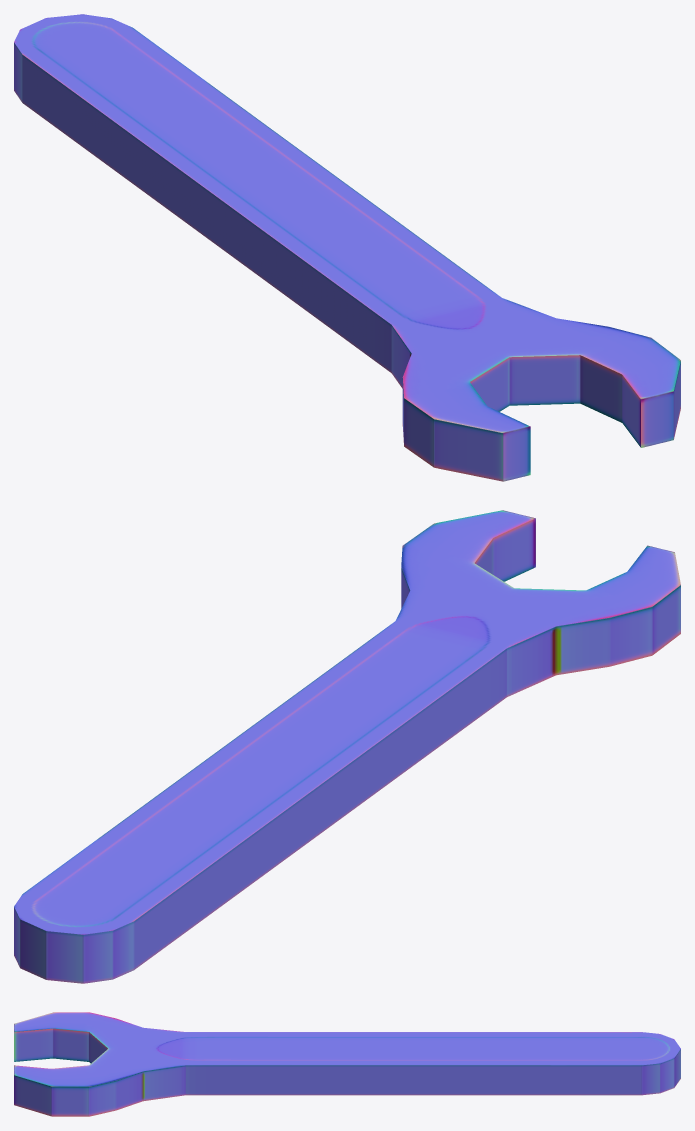
File: wrench.fbx
The picture shows the model from 3 angles, top to bottom: view 1: azimuth 30°, elevation 25°; view 2: azimuth 150°, elevation 25°; view 3: azimuth 270°, elevation 25°; orthographic projection. The views are drawn at different scales.
Parts seen in each view (by area): view 1: Cube; view 2: Cube; view 3: Cube.
Boxes of the visible parts, x1,y1,x2,y2 form: Cube: (14, 14, 680, 481); Cube: (14, 510, 680, 983); Cube: (14, 1012, 680, 1116).
Bounding box in the file's own units: 13.6 × 2.55 × 51.4.
